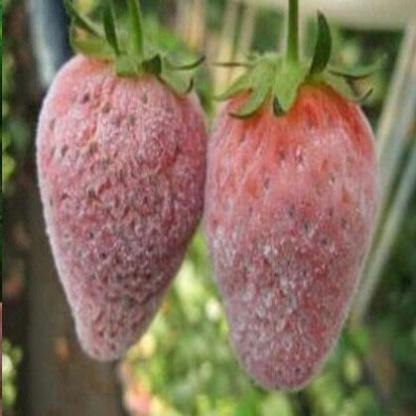Strawberry_Powdery_Mildew_Fruit: (200, 60, 380, 392), (35, 52, 209, 361)
